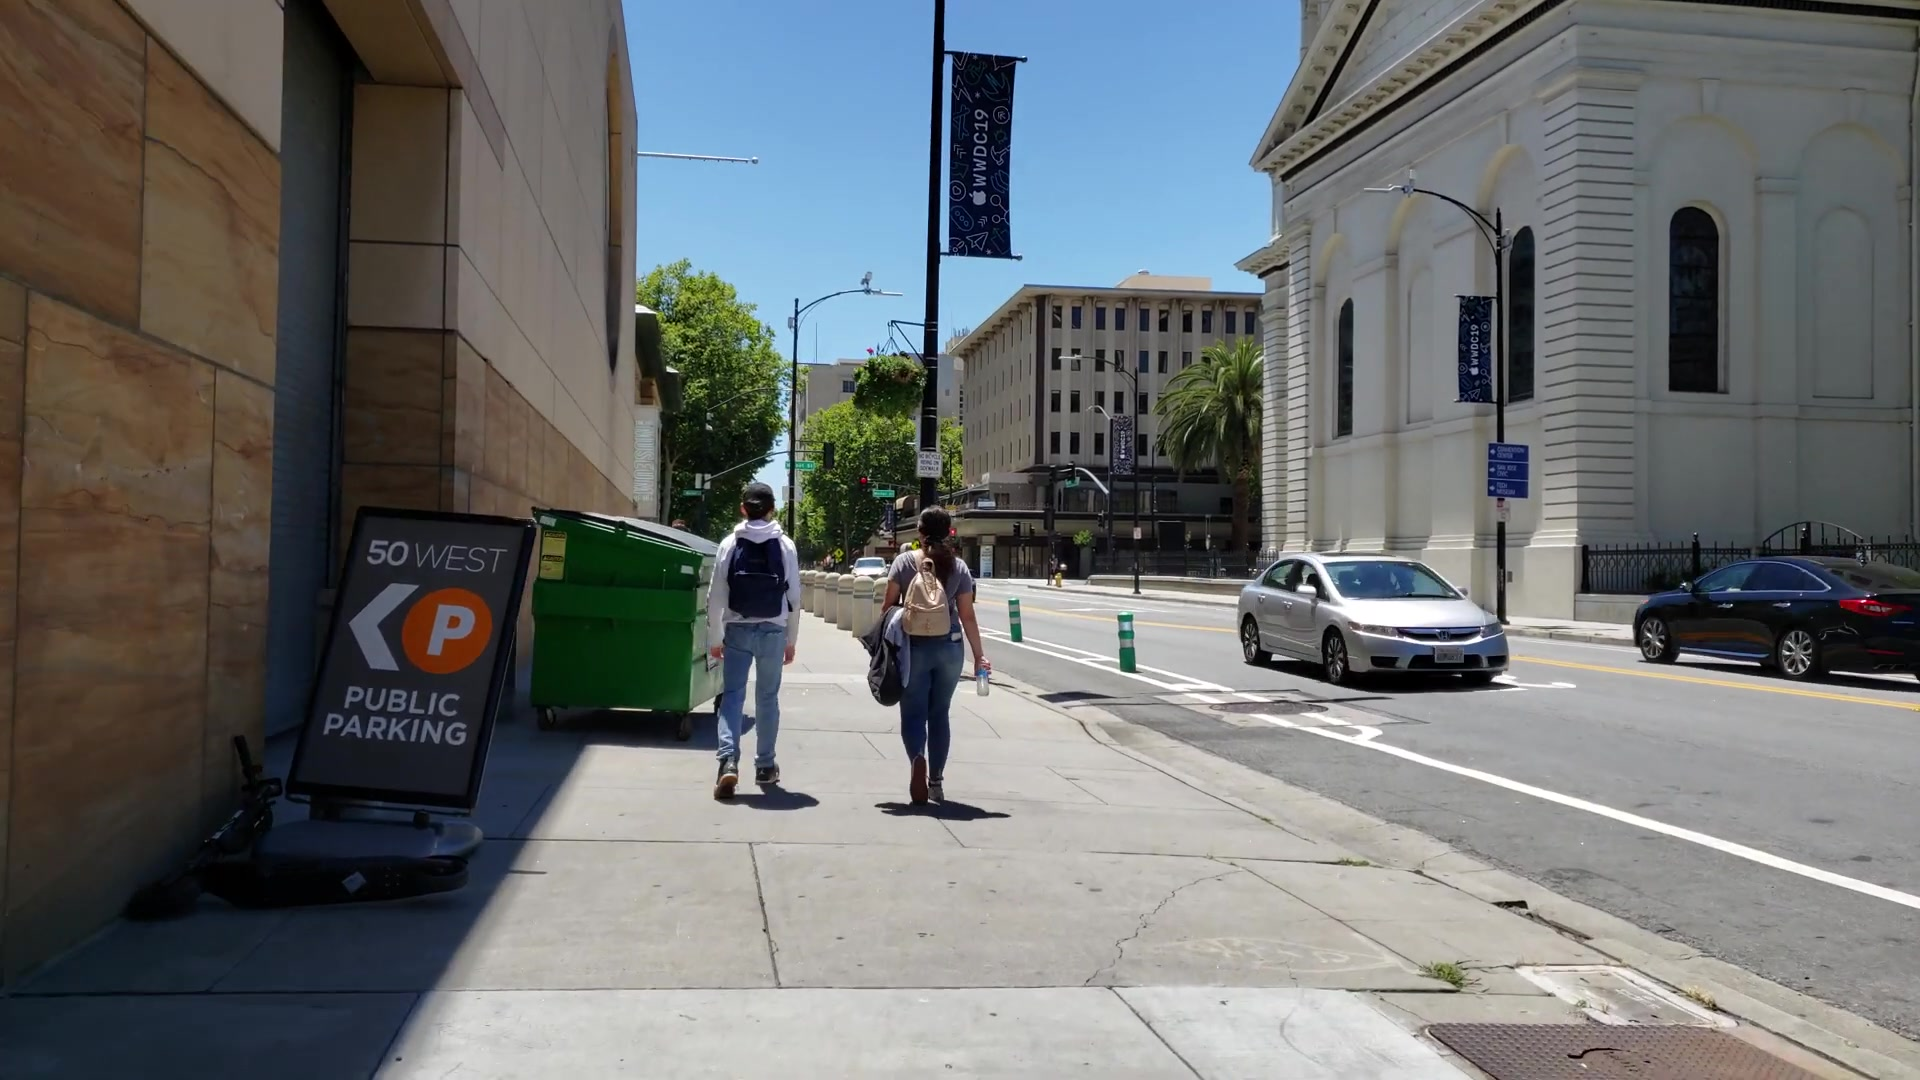vehicle_away: (1634, 559, 1920, 678)
vehicle_toward: (1234, 555, 1511, 682)
